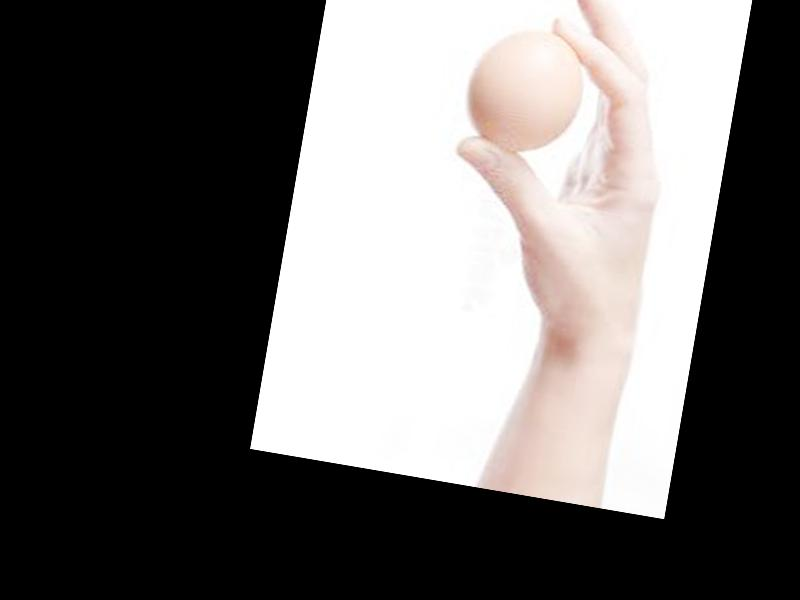Eggs: (459, 21, 589, 162)
